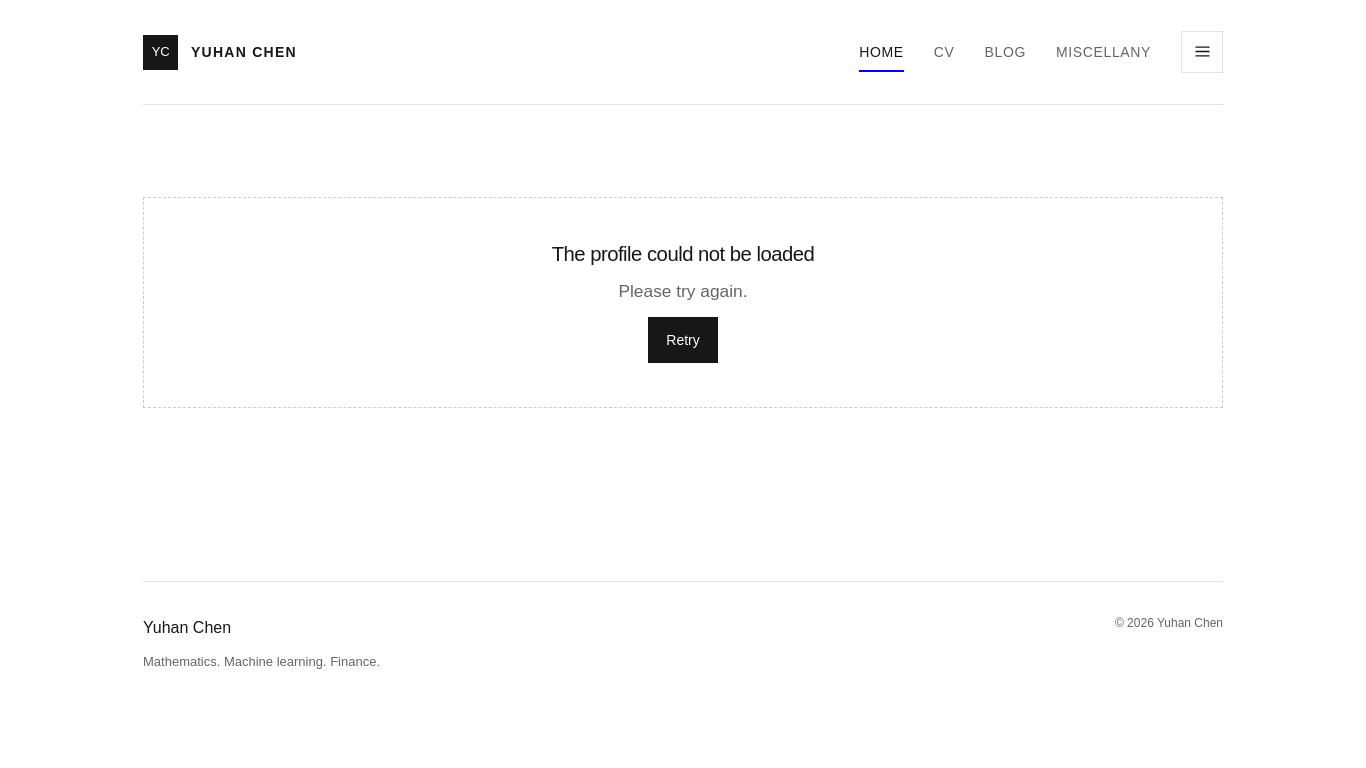
Test case: Navigation and page states › recovers from a mock loader failure
The width and height of the screenshot is (1366, 768).
Expected: the message "The profile could not be loaded Please try again. Retry" is shown, [143, 197, 1223, 408]
Step 1. Click the button "Retry" → click(683, 340), box [648, 317, 718, 363]
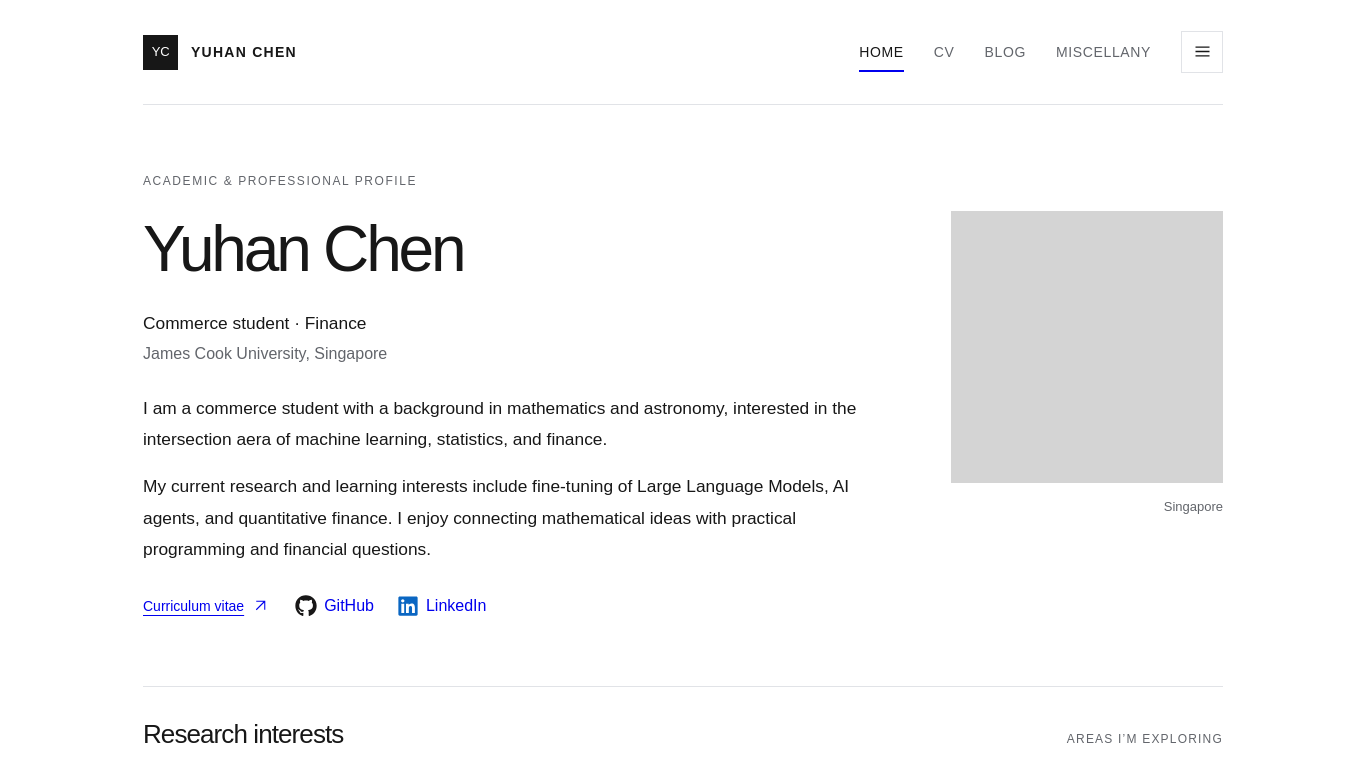
Expected: the heading "Yuhan Chen" is shown, [143, 213, 463, 285]
